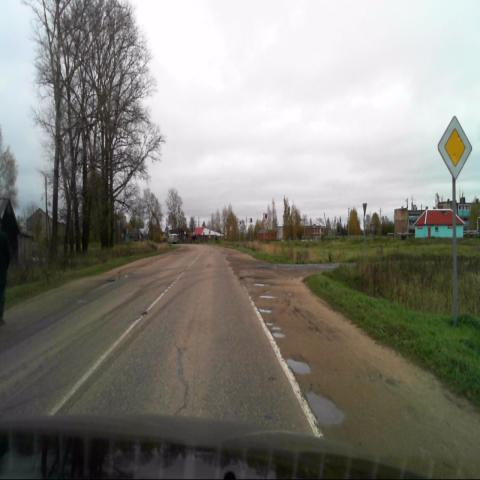2_1: (438, 116, 472, 180)
